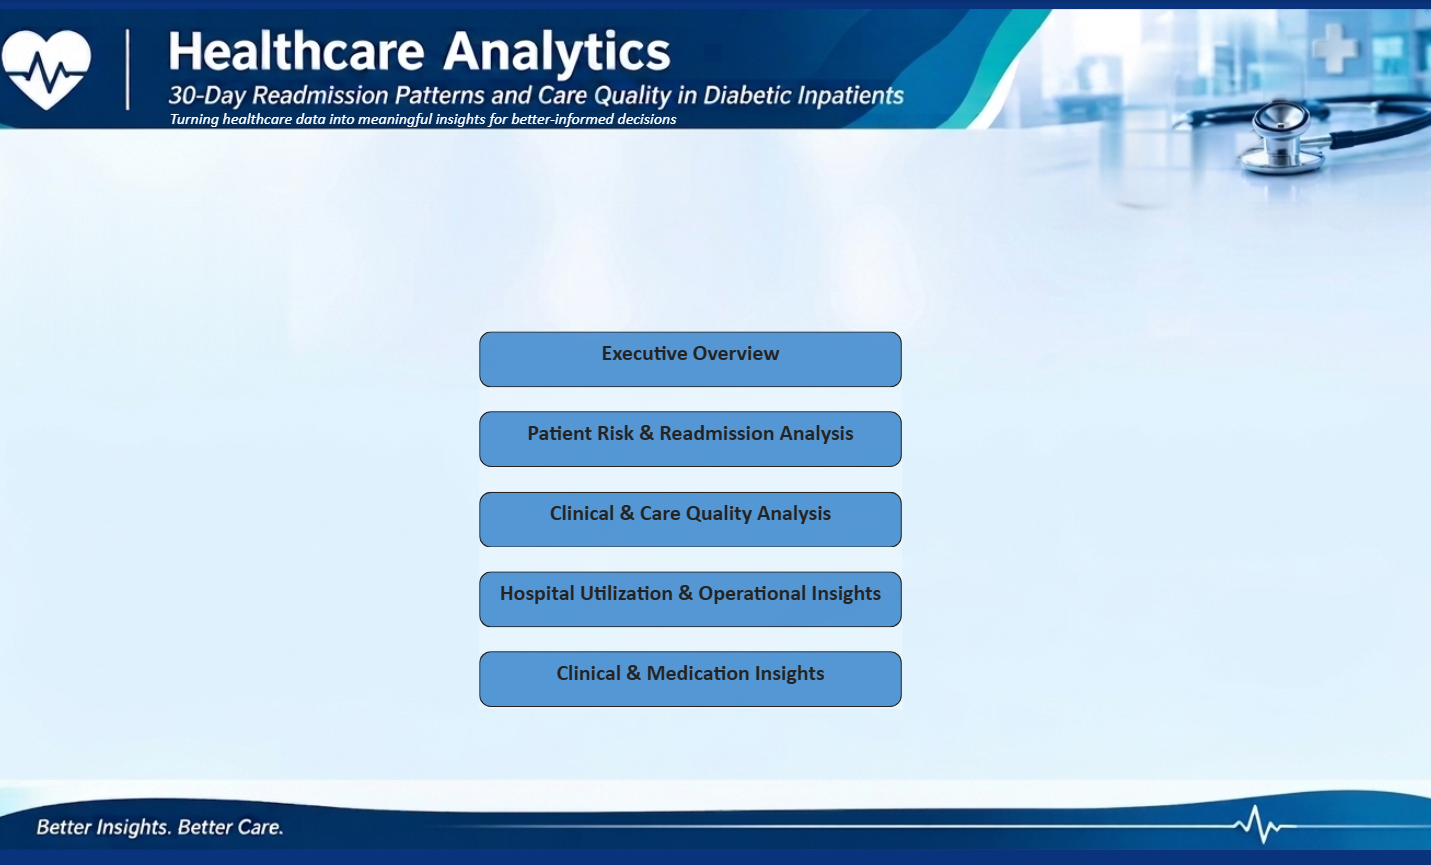

This screenshot's page, from the dashboard's own definition file:
{"tool":"powerbi","page":{"name":"Home","canvas":[1313,791],"ordinal":0},"visuals":[{"type":"pageNavigator","box":[440.1,304.2,386.5,344.7],"z":0},{"type":"textbox","box":[151.5,72.8,515.3,56.1],"z":1000}]}

Visuals, with their boxes in screenshot pixels (x1, y1, x2, y2), scaled from the page's 1313x791 canvas onto the 1431x865 screenshot:
pageNavigator: {"x1": 480, "y1": 333, "x2": 901, "y2": 710}
textbox: {"x1": 165, "y1": 80, "x2": 727, "y2": 141}
